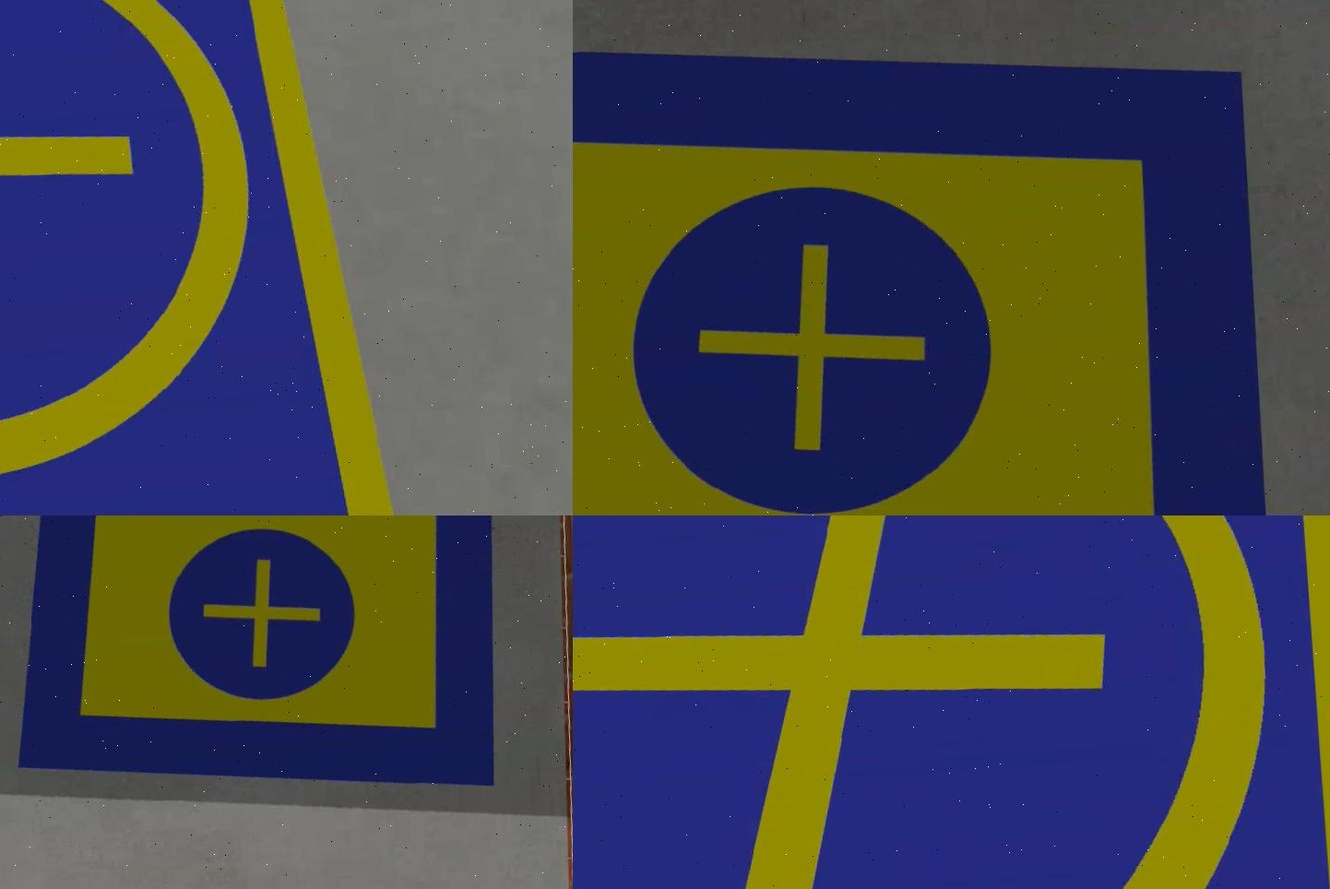large_base: (572, 1, 1287, 516), (0, 516, 514, 821)
small_base: (572, 516, 1328, 889), (0, 1, 418, 516)
